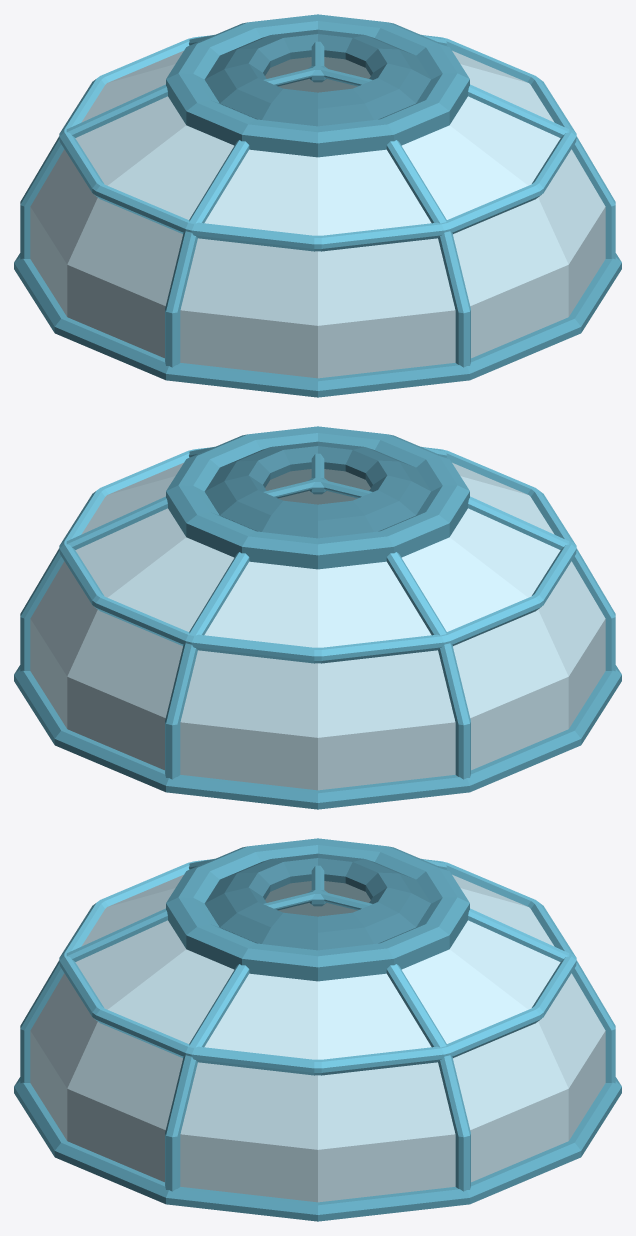
Rendered from spacestation_structure_habitat.glb.
3 renders of one model, top to bottom at view 1: azimuth 30°, elevation 25°; view 2: azimuth 150°, elevation 25°; view 3: azimuth 270°, elevation 25°, orthographic.
Size of the model in its own units: 2.1 by 0.7844 by 2.1.
